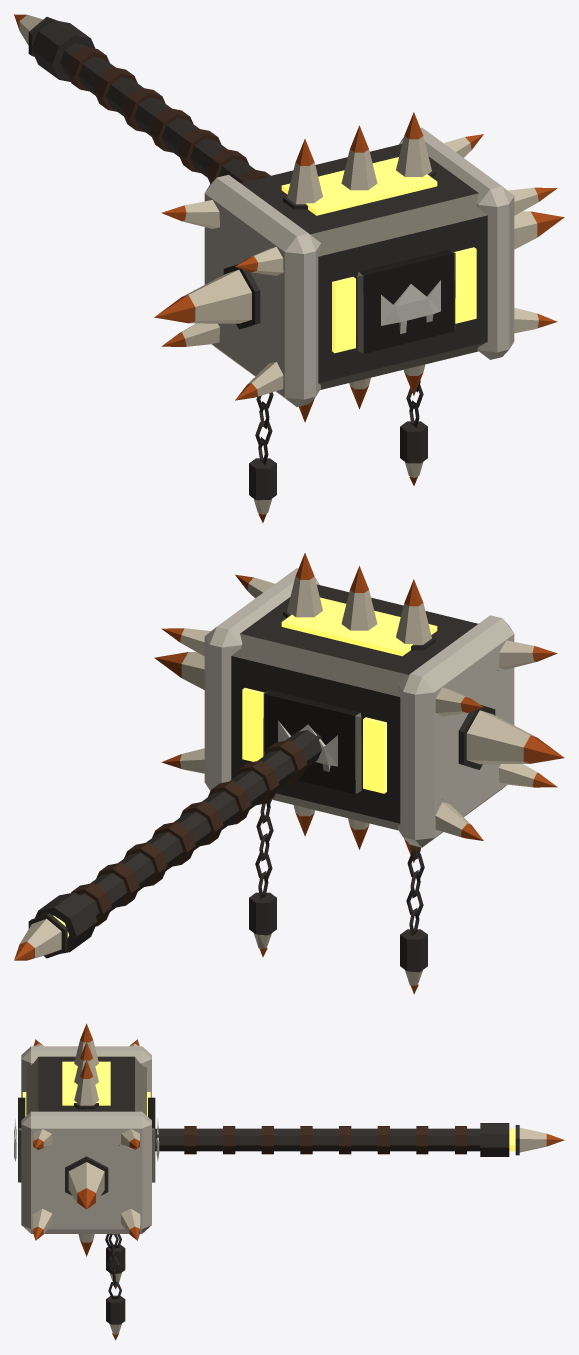
File: w_rept_maul.glb
3 views of the same model, one above another, from view 1: azimuth 30°, elevation 25°; view 2: azimuth 150°, elevation 25°; view 3: azimuth 270°, elevation 25° (orthographic). The views are drawn at different scales.
Visible parts, largest first — view 1: w_rept_maul; view 2: w_rept_maul; view 3: w_rept_maul.
Boxes of the visible parts, bbox=[...] form: w_rept_maul: bbox=[14, 14, 564, 522]; w_rept_maul: bbox=[14, 553, 564, 994]; w_rept_maul: bbox=[14, 1023, 564, 1340].
Bounding box in the file's own units: 1.36 × 1.25 × 2.28.
